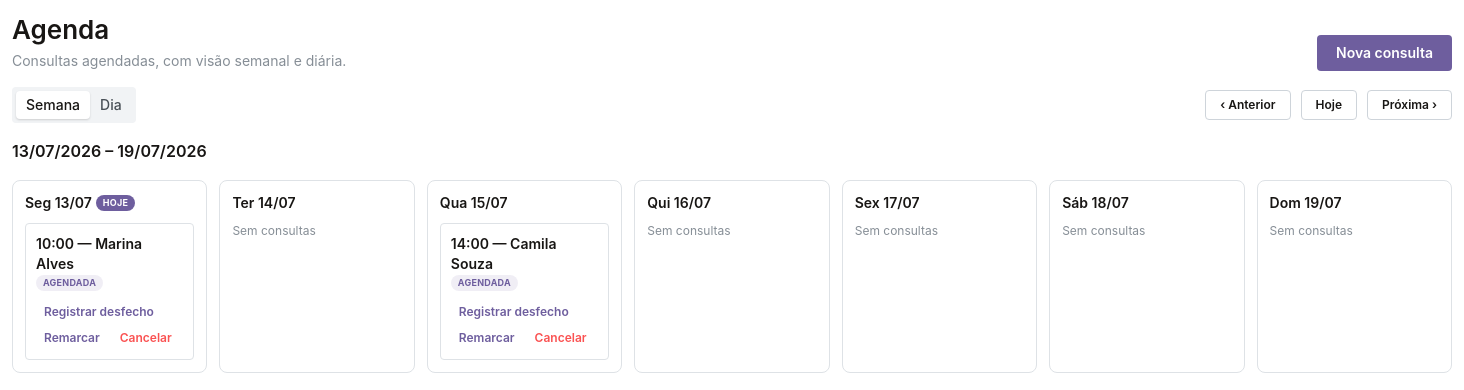
Test: AgendaPage — visões semanal e diária › alterna para a visão diária, mostrando só as consultas do dia de referência
Expected: the element with test id "agenda-week-view" is shown, [12, 180, 1452, 373]
Click the radio button labelled "Dia" at {"x": 111, "y": 105}, box [100, 96, 122, 113]
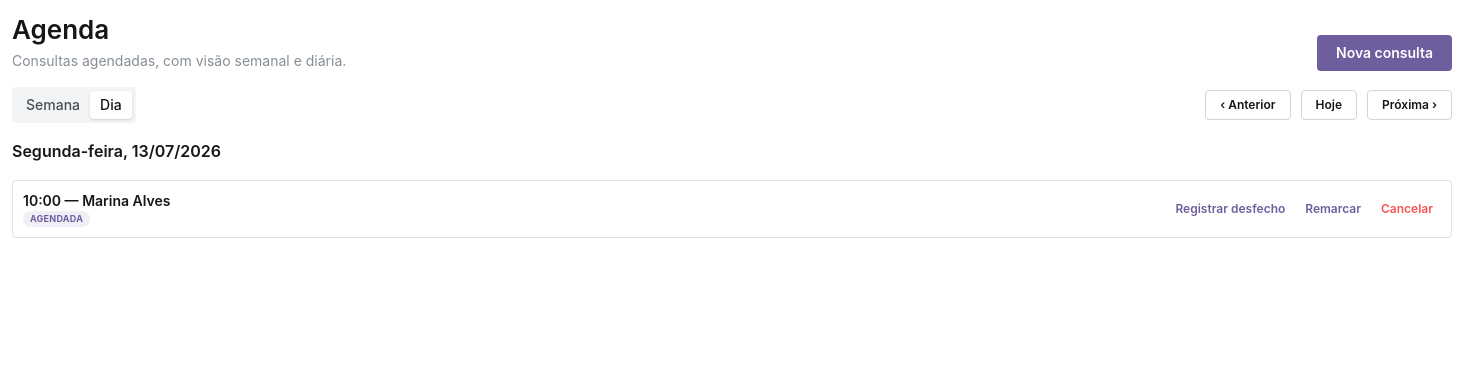
Expected: the text "10:00 — Marina Alves" is shown, [23, 191, 170, 211]
Expected: the text "Camila Souza" is gone
